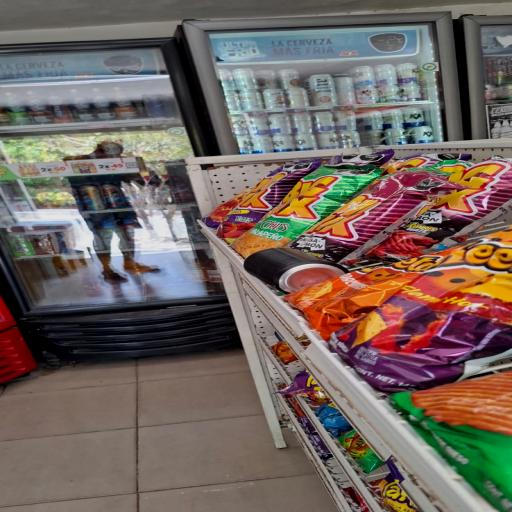LATA: (231, 243, 368, 298)
